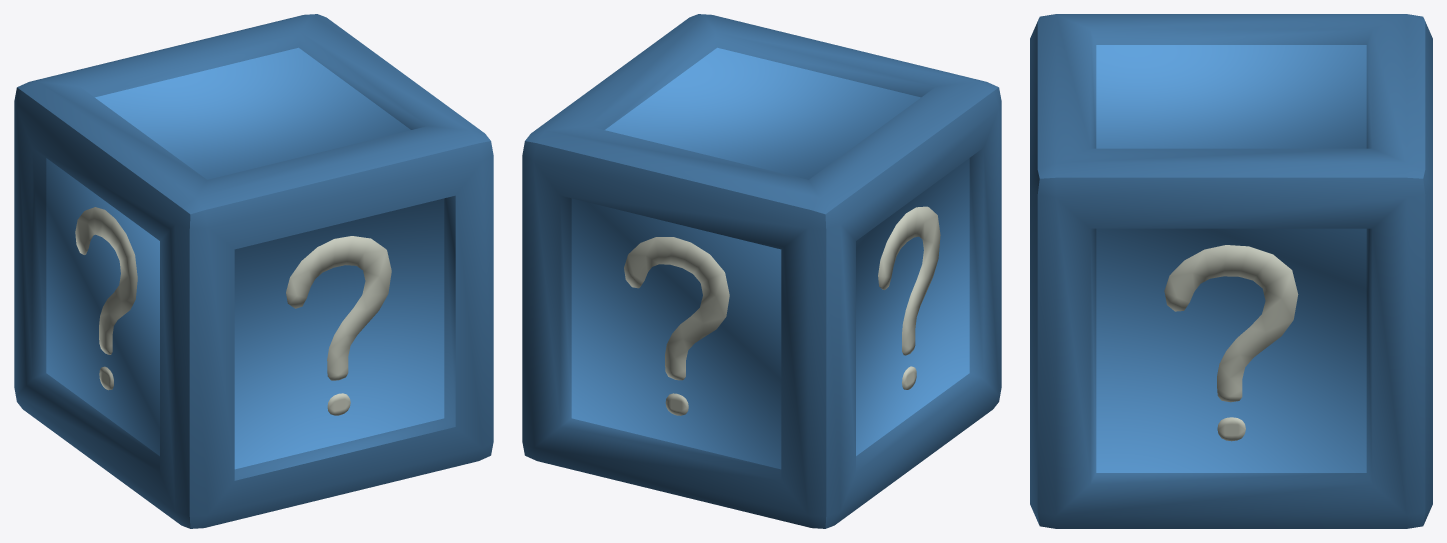
File: Cube_Question.glb
3 renders of one model, left to right at view 1: azimuth 30°, elevation 25°; view 2: azimuth 150°, elevation 25°; view 3: azimuth 270°, elevation 25°, orthographic. The views are drawn at different scales.
Visible parts, largest first — view 1: Cube_Question; view 2: Cube_Question; view 3: Cube_Question.
Part boxes in pixels (x1,y1,x2,y2): Cube_Question: [14, 14, 493, 528]; Cube_Question: [522, 14, 1001, 528]; Cube_Question: [1030, 14, 1432, 528].
Size of the model in its own units: 2.02 by 2.02 by 2.02.
